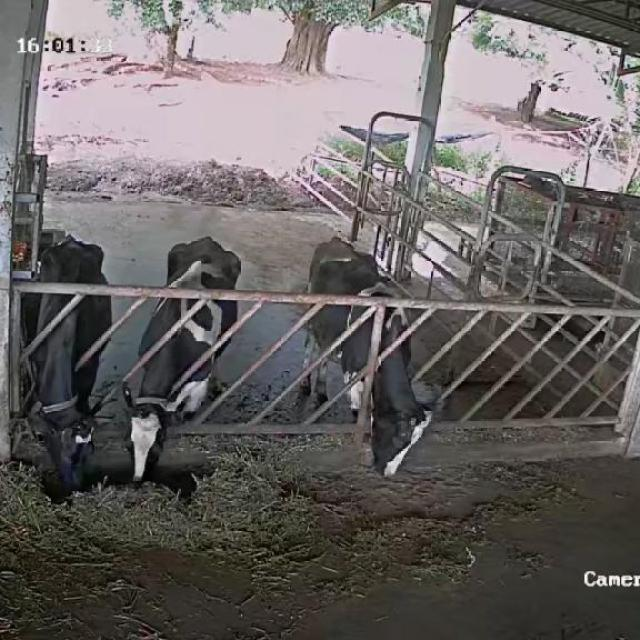feeding: (298, 237, 442, 482), (122, 233, 246, 489), (8, 233, 114, 497)
